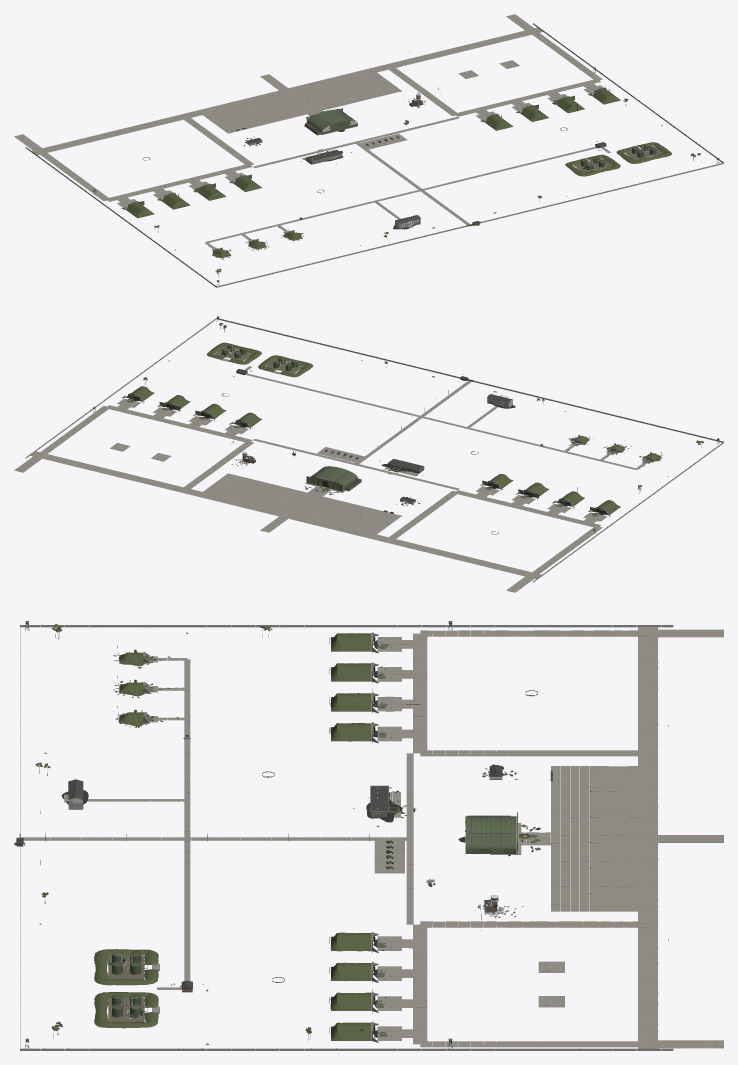
Rendered from site_air.glb.
3 renders of one model, top to bottom at view 1: azimuth 30°, elevation 25°; view 2: azimuth 150°, elevation 25°; view 3: azimuth 270°, elevation 25°, orthographic. The views are drawn at different scales.
Visible parts, largest first — view 1: deco|tile_conc, deco|tile_po2, b_tech|A_A, b_gsm1|A_A, b_gsm2|A_A, deco|A_A; view 2: deco|tile_conc, deco|tile_po2, b_tech|A_A, b_gsm2|A_A, b_gsm1|A_A, deco|A_A; view 3: deco|tile_conc, deco|tile_po2, deco|A_A, b_gsm1|A_A, b_tech|A_A, b_gsm2|A_A, b_has3|A_A, b_has4|A_A, b_has1|A_A, b_has2|A_A, b_has8|A_A, b_has5|A_A (+2 smaller).
Part boxes in pixels (<box>): deco|tile_conc: <box>14,14,639,250</box>; deco|tile_po2: <box>25,23,723,287</box>; b_tech|A_A: <box>305,108,357,135</box>; b_gsm1|A_A: <box>565,154,620,176</box>; b_gsm2|A_A: <box>616,142,671,163</box>; deco|A_A: <box>17,16,723,285</box>; deco|tile_conc: <box>14,358,650,592</box>; deco|tile_po2: <box>25,318,723,582</box>; b_tech|A_A: <box>306,466,361,491</box>; b_gsm2|A_A: <box>207,342,261,364</box>; b_gsm1|A_A: <box>258,355,313,377</box>; deco|A_A: <box>16,316,719,590</box>; deco|tile_conc: <box>20,627,723,1048</box>; deco|tile_po2: <box>20,625,673,1050</box>; deco|A_A: <box>25,621,723,1048</box>; b_gsm1|A_A: <box>94,949,158,985</box>; b_tech|A_A: <box>465,812,517,853</box>; b_gsm2|A_A: <box>94,992,158,1028</box>; b_has3|A_A: <box>329,689,378,713</box>; b_has4|A_A: <box>329,722,378,743</box>; b_has1|A_A: <box>329,632,378,653</box>; b_has2|A_A: <box>329,662,378,683</box>; b_has8|A_A: <box>329,1021,378,1042</box>; b_has5|A_A: <box>329,932,378,952</box>.
Size of the model in its own units: 990 by 33.2 by 701.
59 materials, 46 textured.
